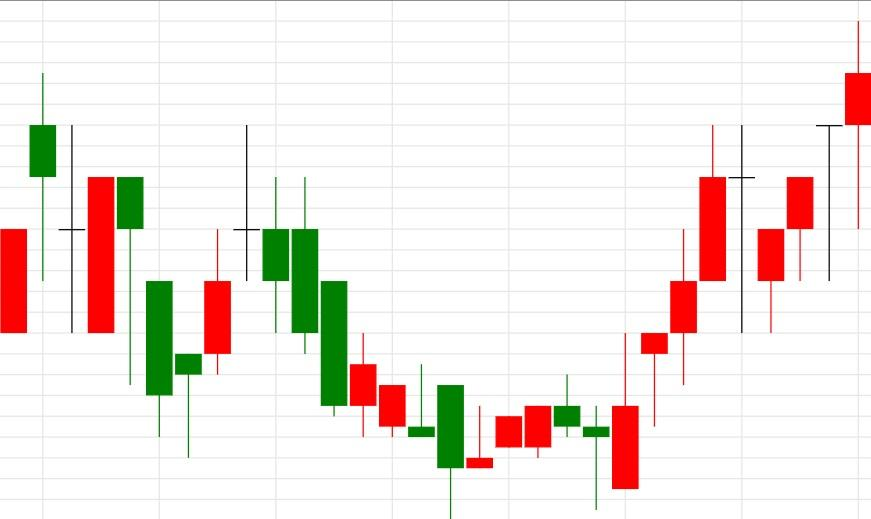hammer_rise: (86, 176, 203, 459)
